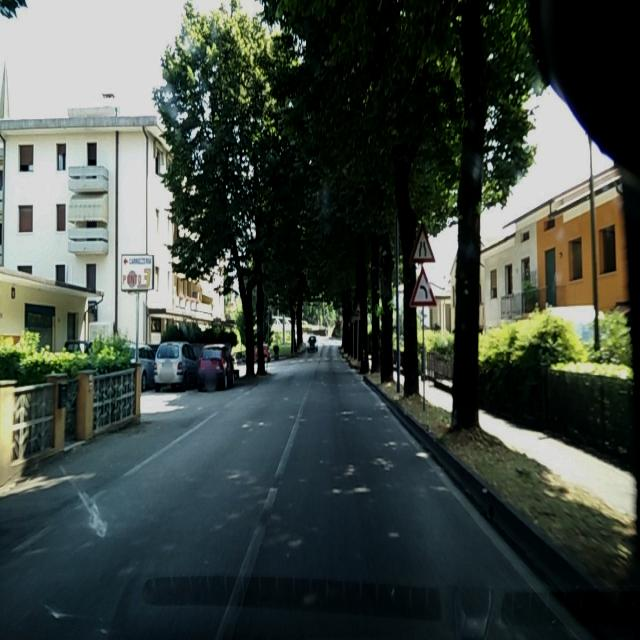car: (152, 338, 200, 394), (197, 342, 237, 392), (128, 344, 158, 392), (63, 338, 93, 354), (307, 336, 317, 352)
